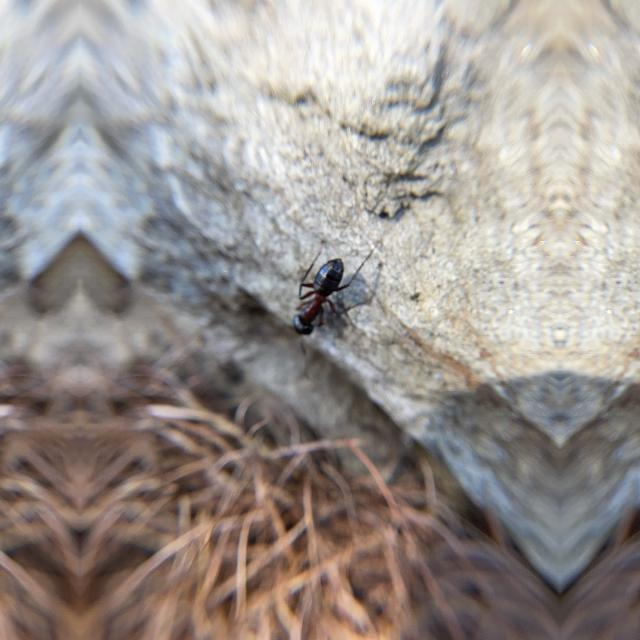Camponotus: (280, 238, 362, 354)
